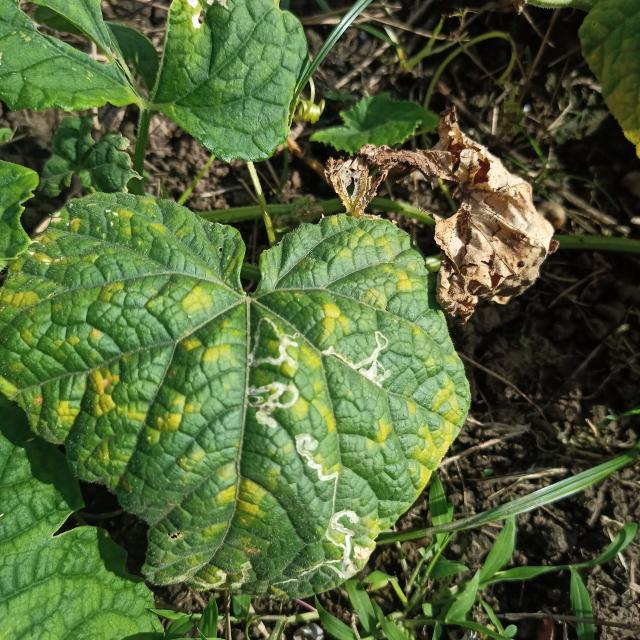disease_cucumber: (14, 203, 449, 585)
